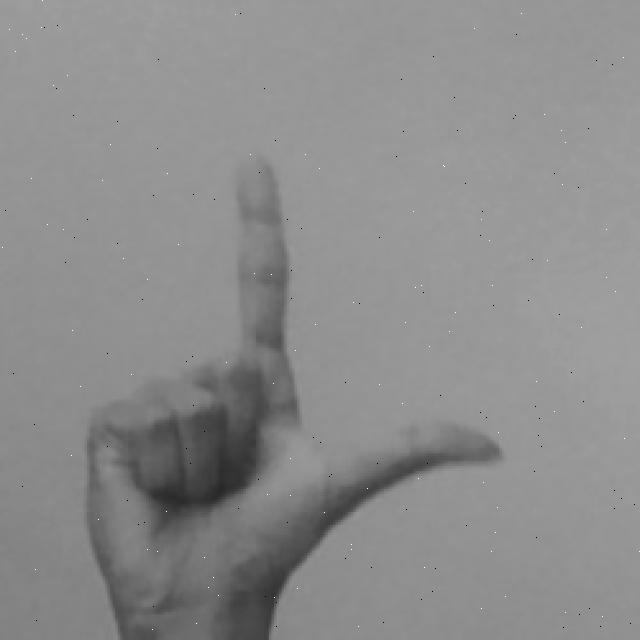L: (75, 142, 510, 640)
